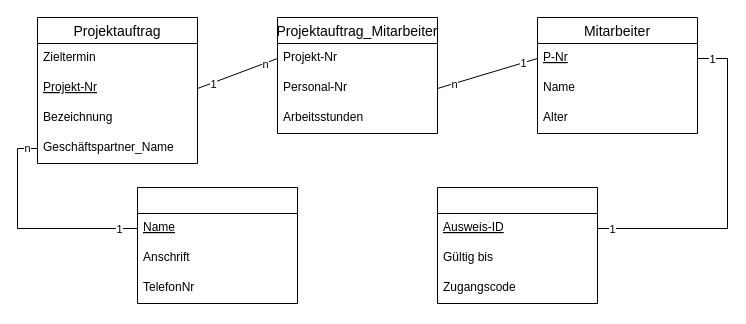
The diagram is 746 pixels wide and 324 high, and some of its shapes have lost their labels. Each missing label, with the box of its shape:
Firmenausweis: (436, 186, 598, 304)
Geschäftspartner: (136, 186, 298, 304)
